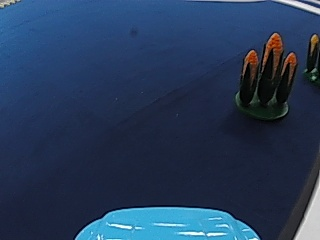corn: (232, 31, 299, 120), (303, 31, 320, 83)
